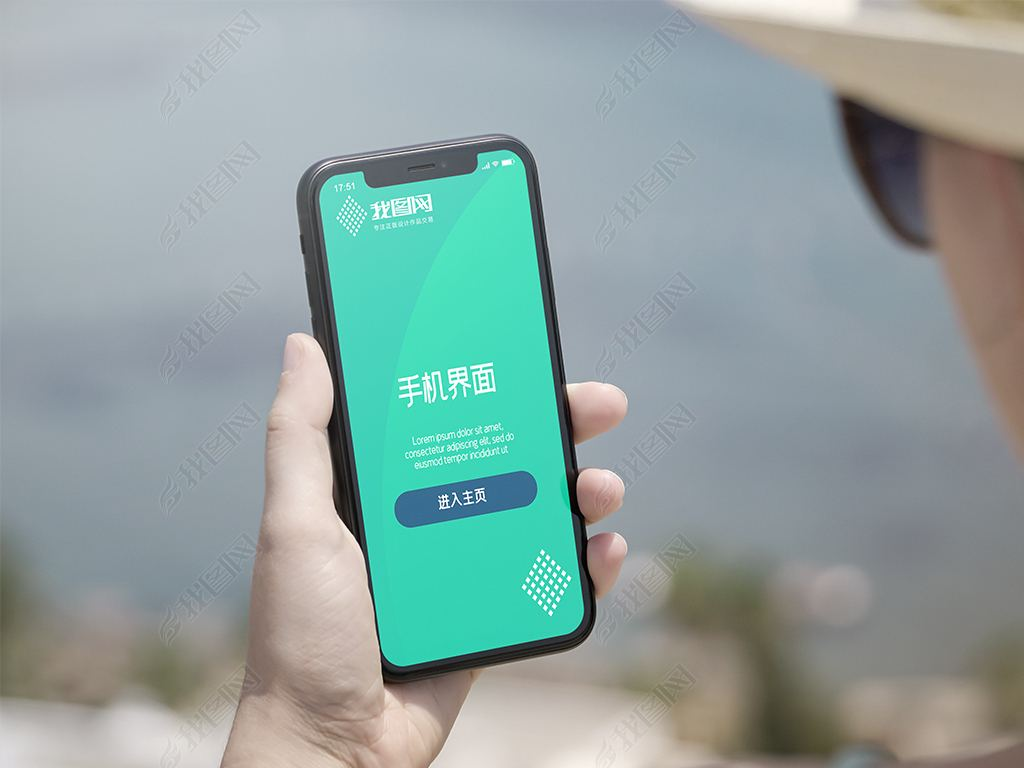phone: (252, 126, 638, 758)
